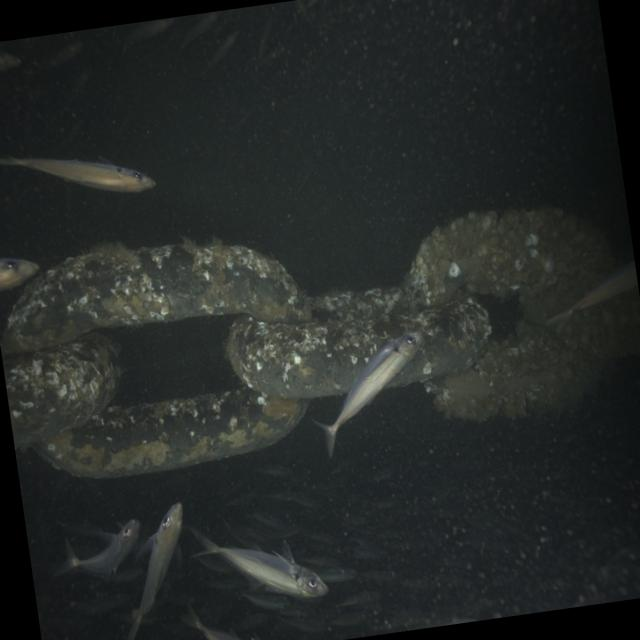ChainLink: (2, 242, 311, 353), (228, 287, 491, 399), (35, 386, 308, 477), (404, 209, 610, 307), (428, 321, 598, 421), (4, 333, 120, 445), (560, 287, 640, 359), (521, 289, 585, 323)
